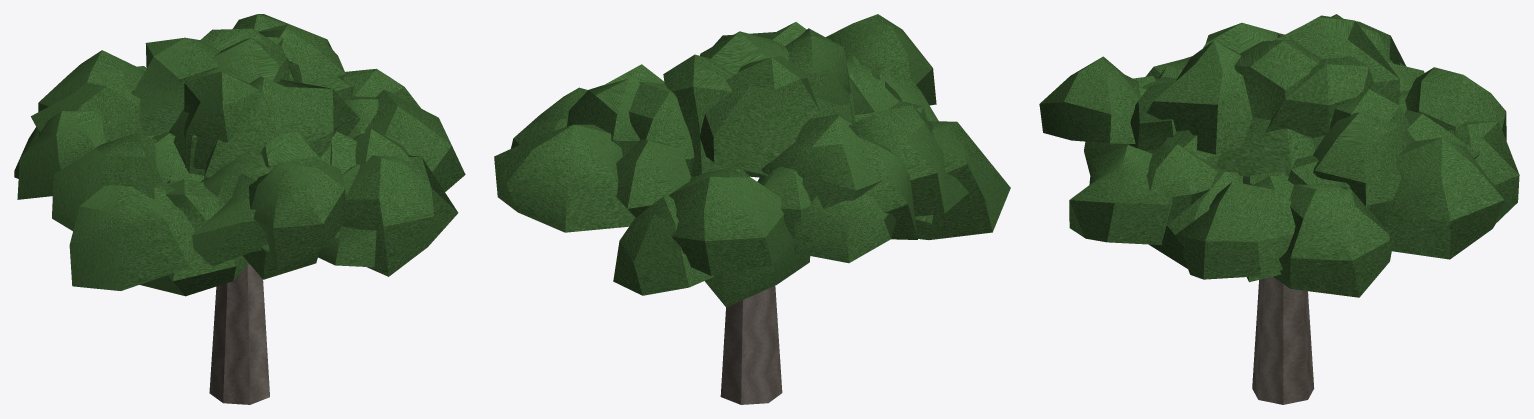
File: ambient_tree_17.glb
3 views of the same model, side by side, from view 1: azimuth 30°, elevation 25°; view 2: azimuth 150°, elevation 25°; view 3: azimuth 270°, elevation 25° (orthographic).
Parts seen in each view (by area): view 1: ambient_tree_17; view 2: ambient_tree_17; view 3: ambient_tree_17.
Boxes of the visible parts, left/top/right/bottom form: ambient_tree_17: left=14, top=14, right=465, bottom=404; ambient_tree_17: left=494, top=14, right=1010, bottom=404; ambient_tree_17: left=1039, top=14, right=1519, bottom=404.
Size of the model in its own units: 9.87 by 8.15 by 9.96.
Materials: 2 (2 with a texture image).
